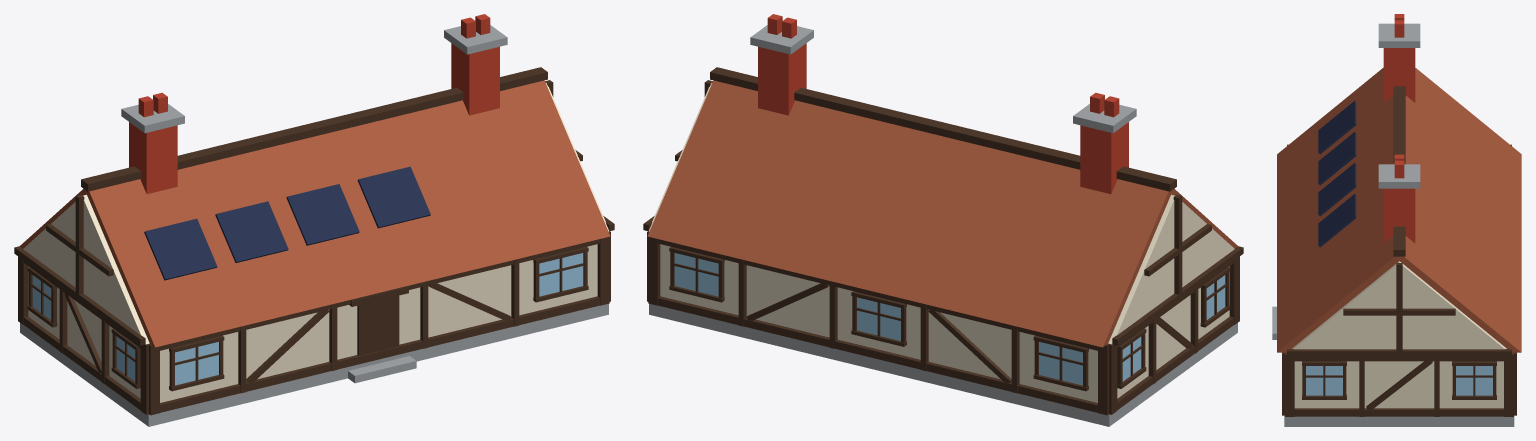
Rendered from house-2x1-1f-tudor-a-solar.glb.
3 renders of one model, left to right at view 1: azimuth 30°, elevation 25°; view 2: azimuth 150°, elevation 25°; view 3: azimuth 270°, elevation 25°, orthographic. The views are drawn at different scales.
Visible parts, largest first — view 1: house-2x1-1f-tudor-a-solar; view 2: house-2x1-1f-tudor-a-solar; view 3: house-2x1-1f-tudor-a-solar.
Part boxes in pixels (x1=…): house-2x1-1f-tudor-a-solar: x1=14, y1=14, x2=614, y2=426; house-2x1-1f-tudor-a-solar: x1=643, y1=14, x2=1243, y2=426; house-2x1-1f-tudor-a-solar: x1=1272, y1=14, x2=1521, y2=426.
Size of the model in its own units: 2 by 1.07 by 1.02.
1 material, 1 textured.
